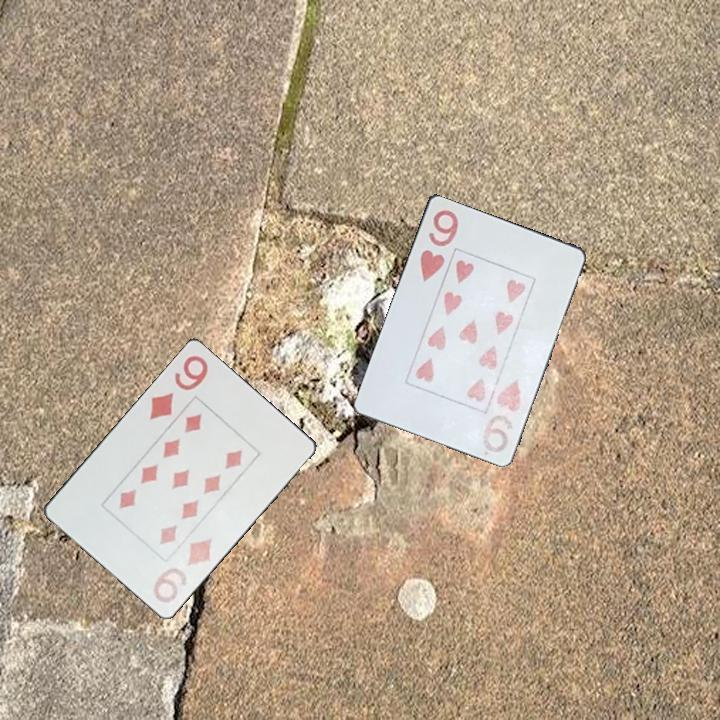9d: (145, 351, 213, 423), (149, 534, 215, 608)
9h: (478, 375, 528, 456), (416, 206, 461, 285)
